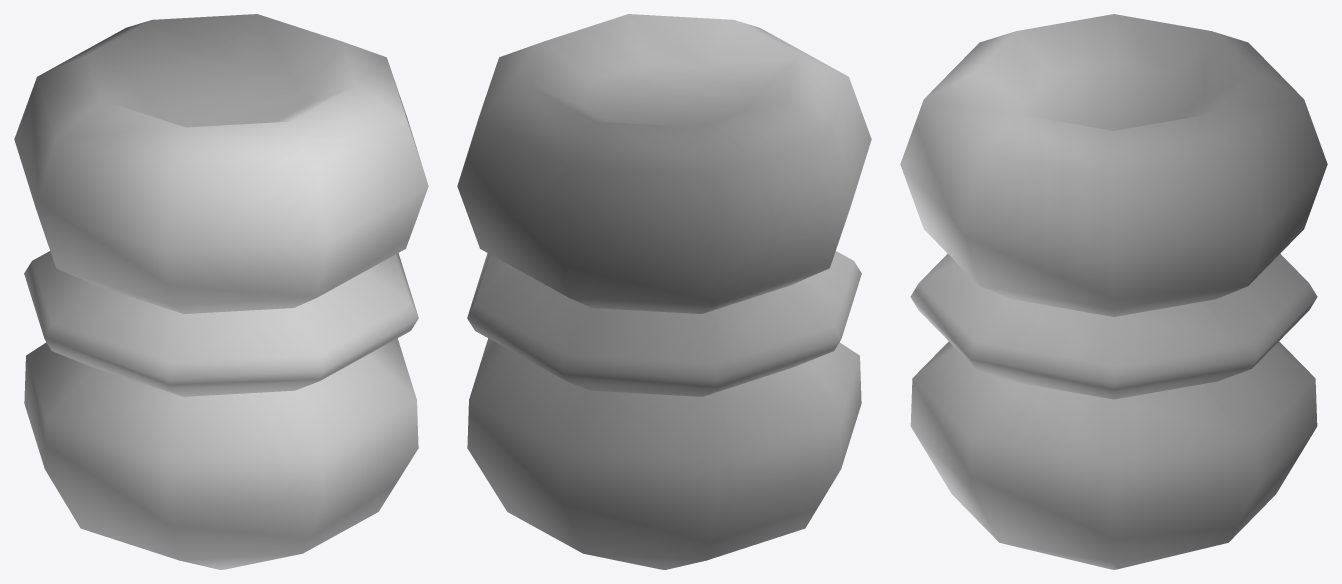
The model's file is stone_pommel_146.glb.
3 renders of one model, left to right at view 1: azimuth 30°, elevation 25°; view 2: azimuth 150°, elevation 25°; view 3: azimuth 270°, elevation 25°, orthographic.
Visible parts, largest first — view 1: stone_pommel.146; view 2: stone_pommel.146; view 3: stone_pommel.146.
Boxes of the visible parts, box(x1,y1,x2,y2) form: stone_pommel.146: box(14, 14, 428, 569); stone_pommel.146: box(457, 14, 871, 569); stone_pommel.146: box(900, 14, 1327, 569).
Size of the model in its own units: 1.83 by 2.34 by 1.83.
1 material, 1 textured.
